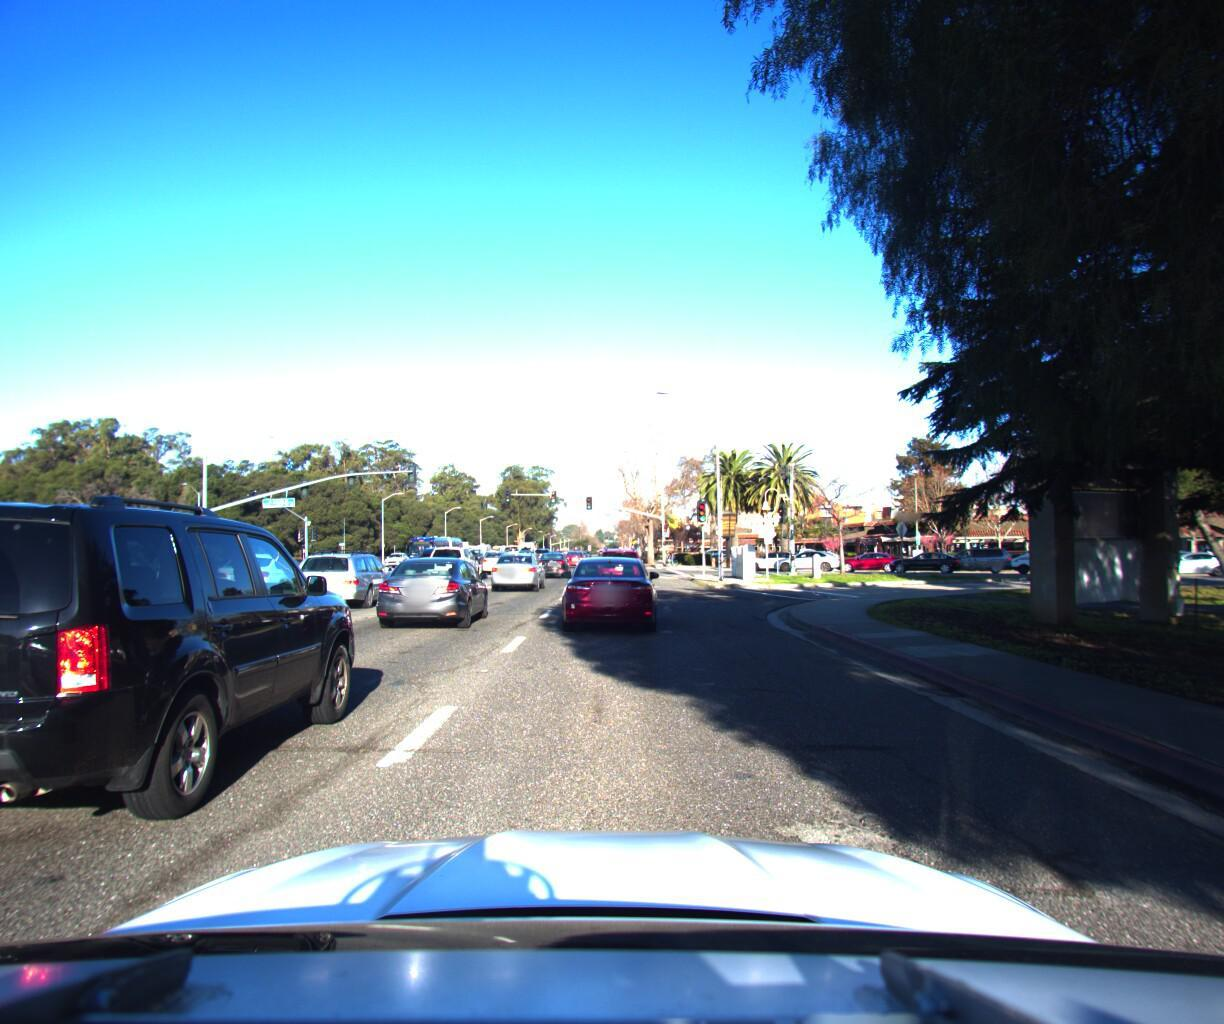bicycle: (664, 540, 680, 559)
car: (0, 470, 375, 893), (0, 517, 100, 656), (374, 549, 492, 633), (558, 547, 661, 631), (298, 542, 409, 606), (591, 539, 642, 589), (1136, 541, 1224, 567), (492, 544, 548, 586), (426, 538, 482, 579), (769, 540, 844, 563), (885, 540, 958, 563), (832, 541, 906, 563), (532, 540, 568, 570), (477, 538, 512, 566), (1206, 542, 1224, 568), (562, 541, 586, 560)
other_vehicle: (1002, 529, 1085, 566)
